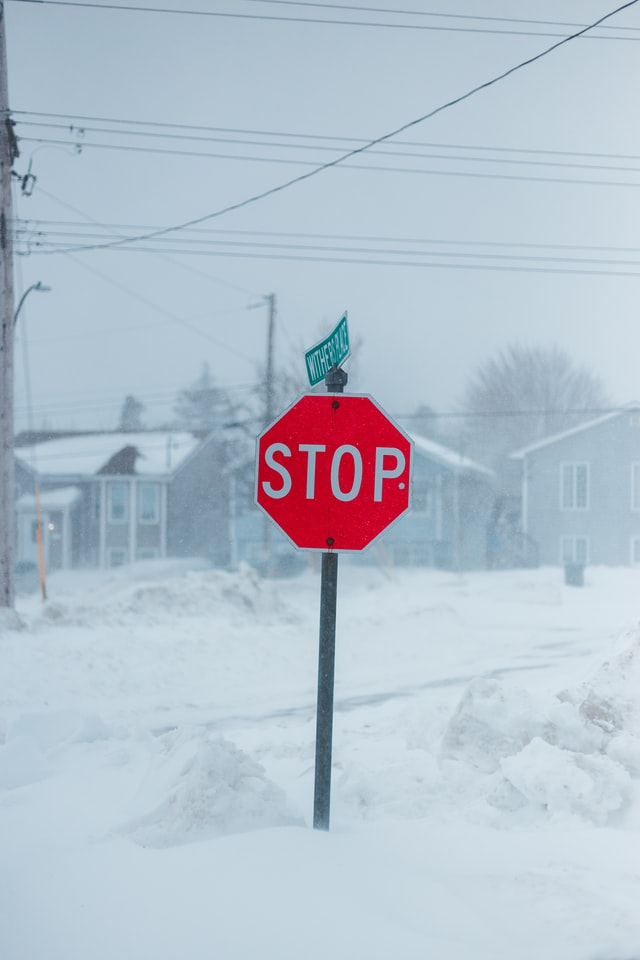STOP: (250, 388, 420, 557)
